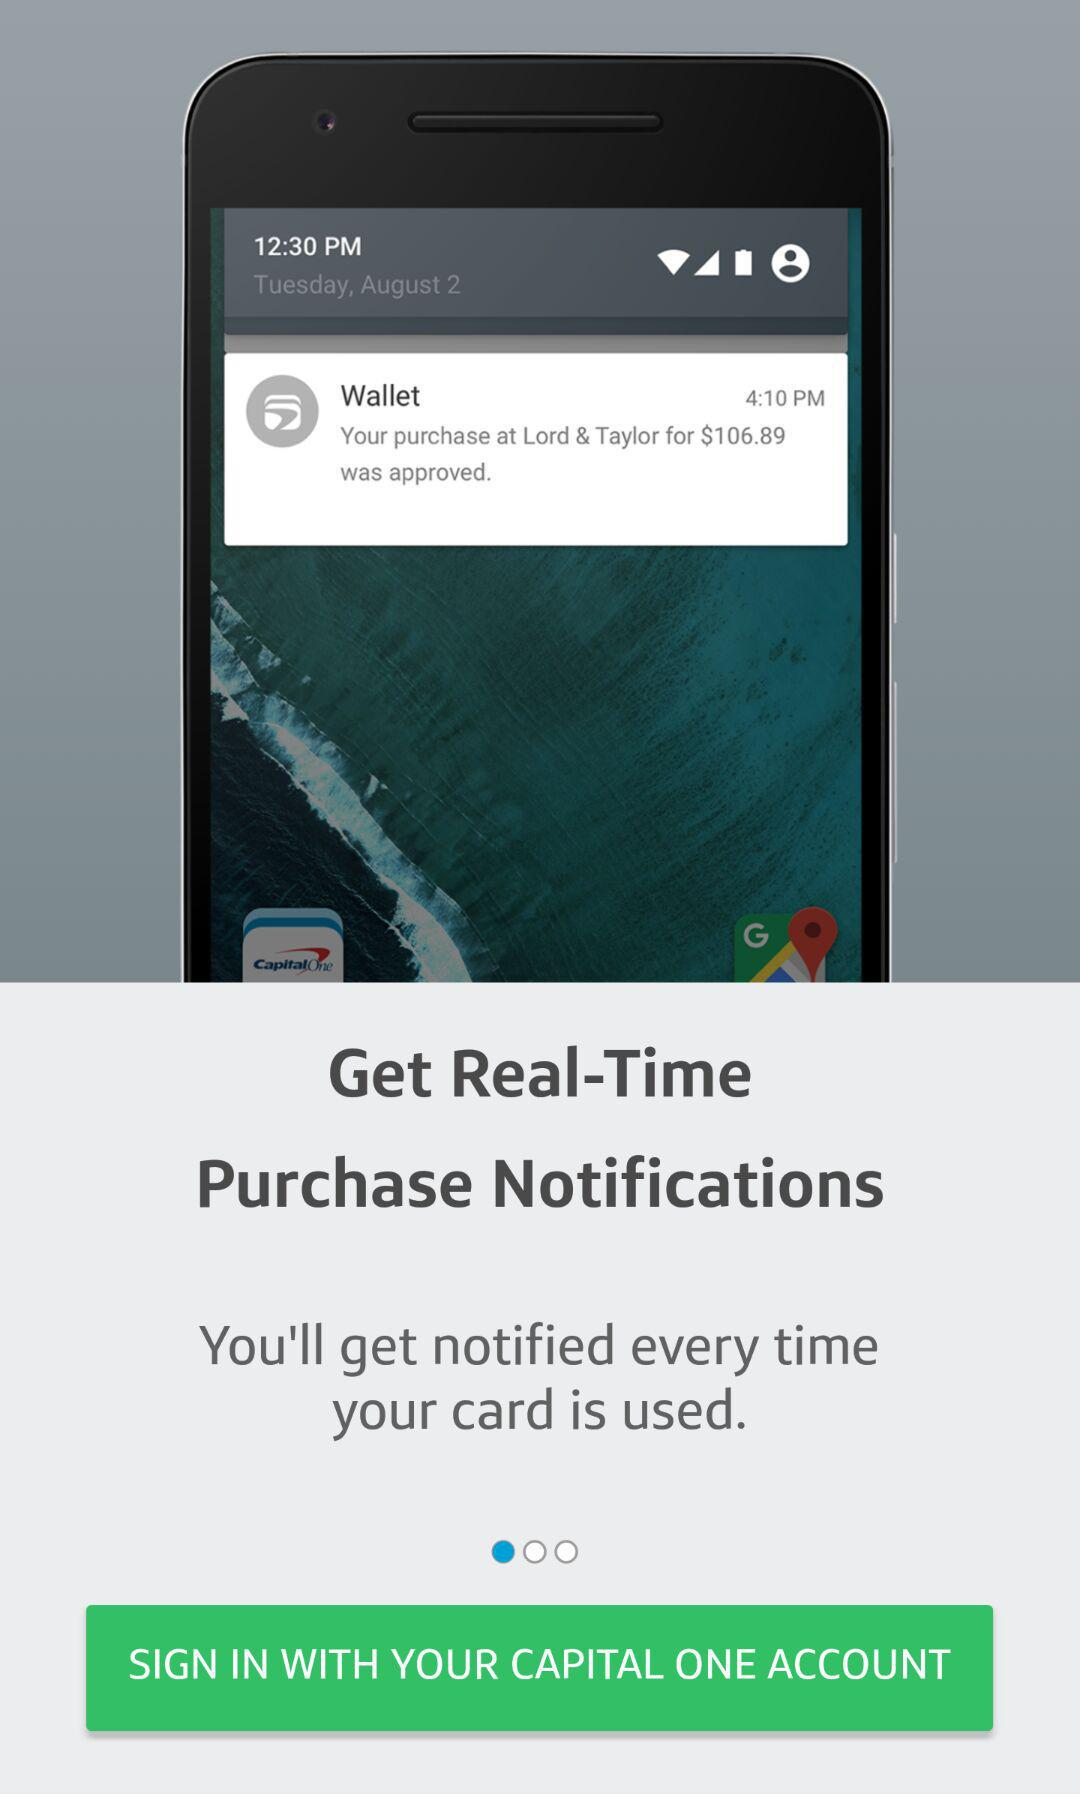Image: (179, 51, 899, 983)
PageIndicator: (489, 1539, 580, 1565)
Text: (199, 1322, 878, 1442), (200, 1155, 884, 1208), (331, 1044, 752, 1098)
TextButton: (86, 1604, 994, 1732)
